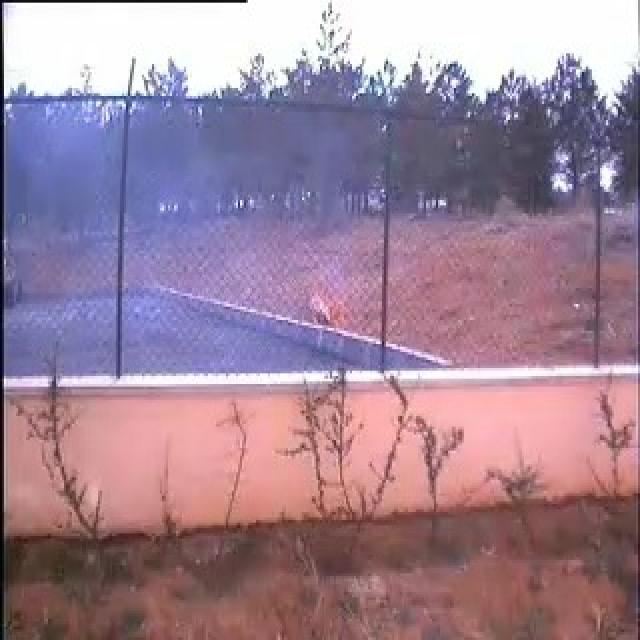smoke: (61, 94, 305, 369)
